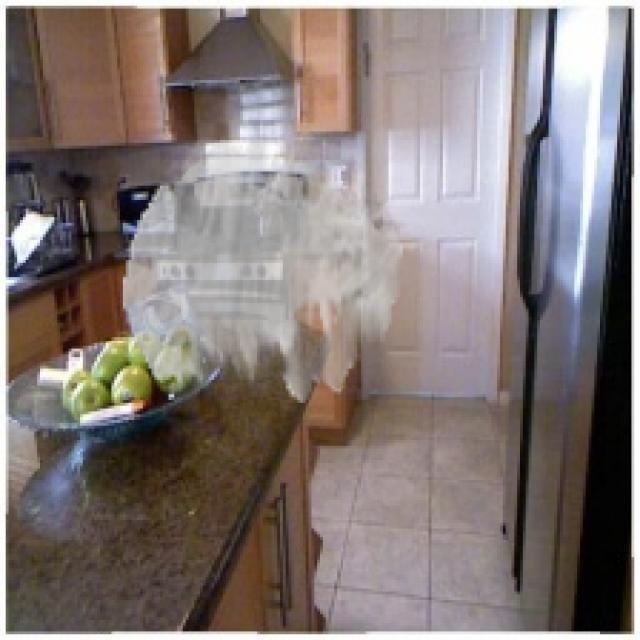Smoke: (123, 134, 403, 403)
